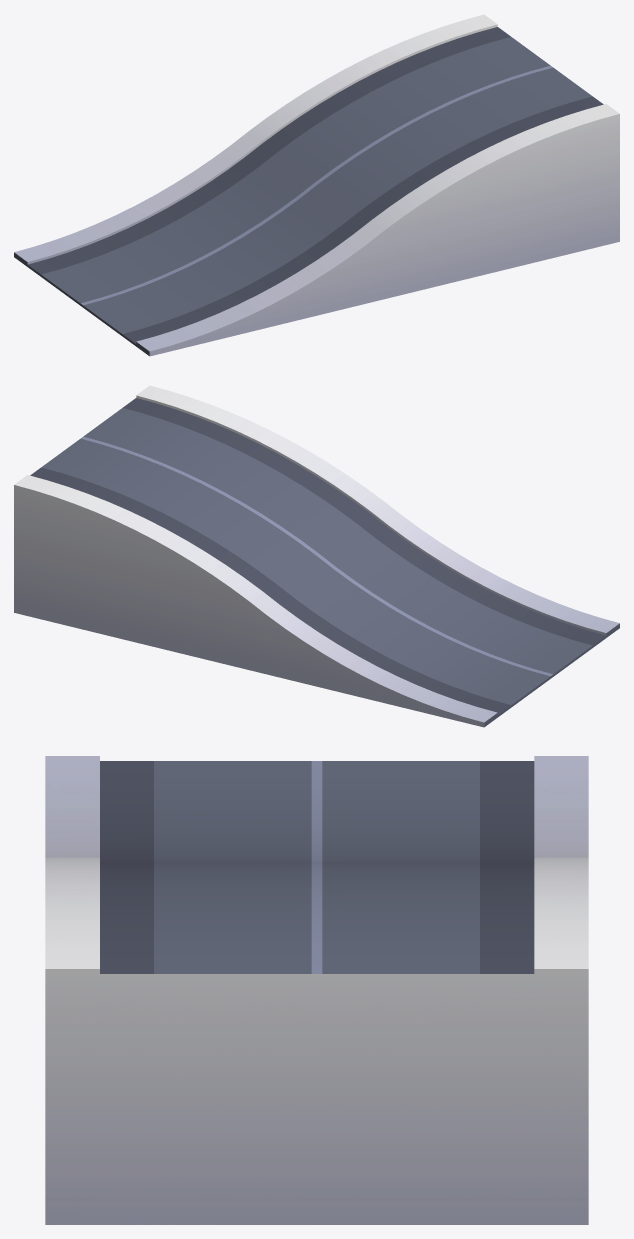
Rendered from road-slant-curve.glb.
3 views of the same model, one above another, from view 1: azimuth 30°, elevation 25°; view 2: azimuth 150°, elevation 25°; view 3: azimuth 270°, elevation 25° (orthographic). The views are drawn at different scales.
Visible parts, largest first — view 1: road-slant-curve; view 2: road-slant-curve; view 3: road-slant-curve.
Part boxes in pixels (x1,y1,x2,y2): road-slant-curve: (14,14,619,356); road-slant-curve: (14,385,619,727); road-slant-curve: (45,756,588,1224).
Bounding box in the file's own units: 2 × 0.5201 × 1.
Materials: 1 (1 with a texture image).
